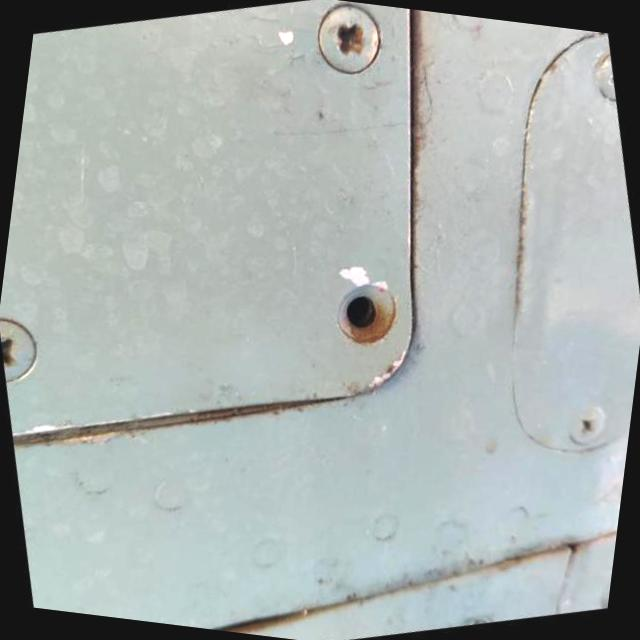Missing Fastener: (329, 274, 402, 350)
